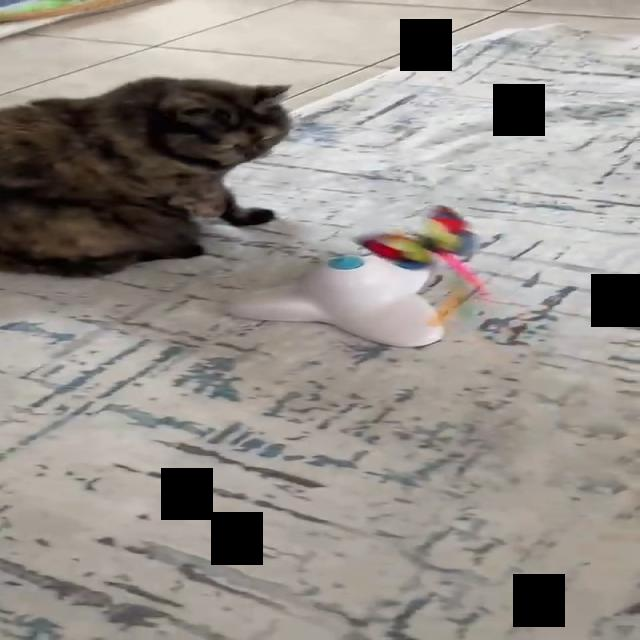authorized: (0, 75, 293, 277)
